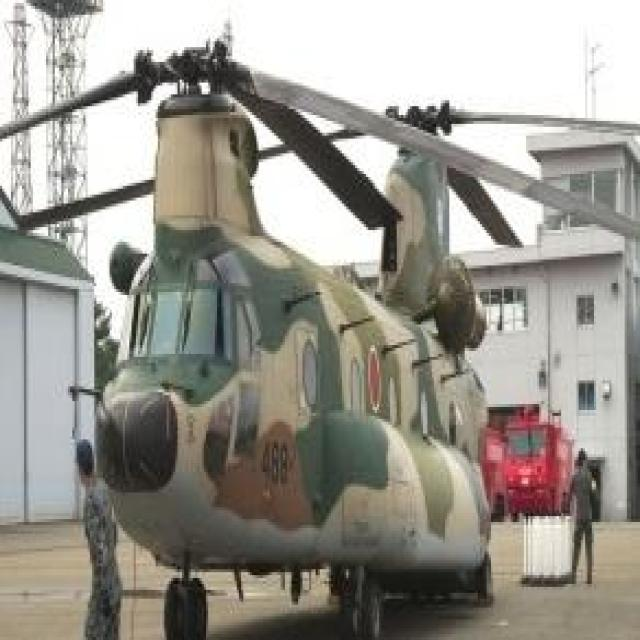Helicopter: (88, 40, 561, 624)
